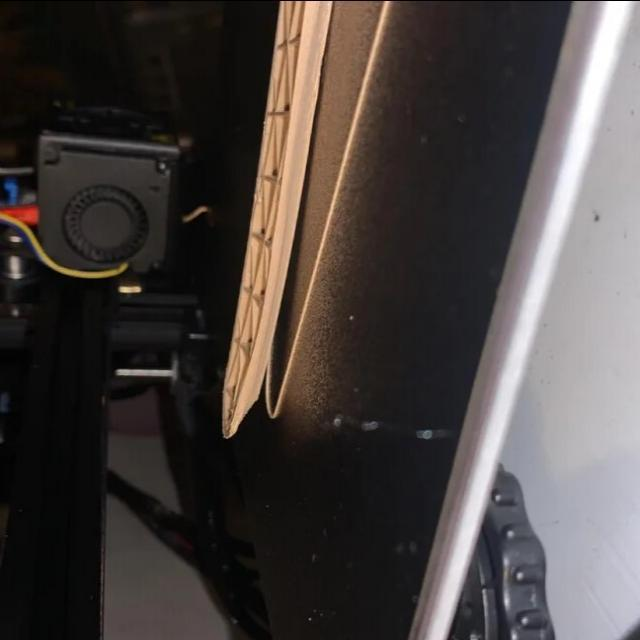Warping: (222, 238, 308, 437)
